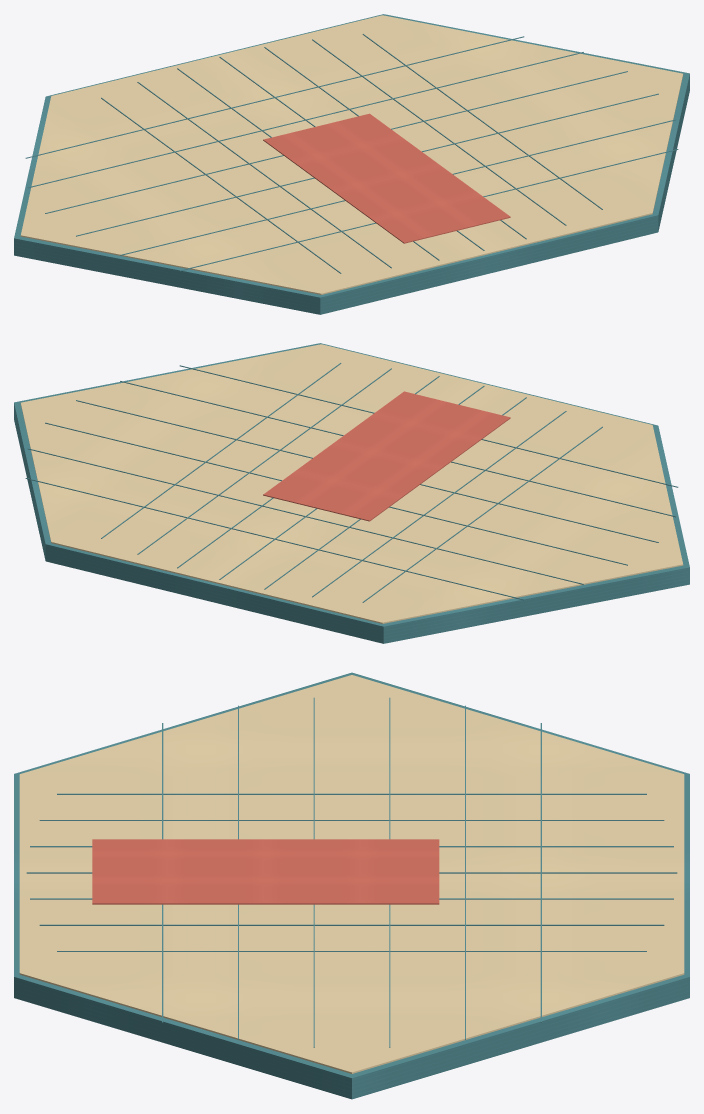
The model's file is atlas100-s074-a07.lod2.glb.
The picture shows the model from 3 angles, top to bottom: view 1: azimuth 30°, elevation 25°; view 2: azimuth 150°, elevation 25°; view 3: azimuth 270°, elevation 25°; orthographic projection. The views are drawn at different scales.
Parts seen in each view (by area): view 1: atlas100-s074-a07:part-001, atlas100-s074-a07:part-000, atlas100-s074-a07:part-021, atlas100-s074-a07:part-015, atlas100-s074-a07:part-014, atlas100-s074-a07:part-016, atlas100-s074-a07:part-017, atlas100-s074-a07:part-018, atlas100-s074-a07:part-019, atlas100-s074-a07:part-009, atlas100-s074-a07:part-005, atlas100-s074-a07:part-010 (+1 smaller); view 2: atlas100-s074-a07:part-001, atlas100-s074-a07:part-000, atlas100-s074-a07:part-021, atlas100-s074-a07:part-015, atlas100-s074-a07:part-014, atlas100-s074-a07:part-017, atlas100-s074-a07:part-016, atlas100-s074-a07:part-018, atlas100-s074-a07:part-019, atlas100-s074-a07:part-005, atlas100-s074-a07:part-009, atlas100-s074-a07:part-010 (+1 smaller); view 3: atlas100-s074-a07:part-001, atlas100-s074-a07:part-021, atlas100-s074-a07:part-000, atlas100-s074-a07:part-009, atlas100-s074-a07:part-004.
Boxes of the visible parts, x1,y1,x2,y2 form: atlas100-s074-a07:part-001: (20, 15, 683, 294); atlas100-s074-a07:part-000: (14, 14, 689, 314); atlas100-s074-a07:part-021: (263, 113, 510, 243); atlas100-s074-a07:part-015: (27, 52, 583, 188); atlas100-s074-a07:part-014: (25, 36, 524, 158); atlas100-s074-a07:part-016: (45, 71, 627, 213); atlas100-s074-a07:part-017: (76, 93, 658, 236); atlas100-s074-a07:part-018: (120, 119, 675, 255); atlas100-s074-a07:part-019: (179, 149, 678, 271); atlas100-s074-a07:part-009: (312, 39, 566, 225); atlas100-s074-a07:part-005: (137, 82, 391, 268); atlas100-s074-a07:part-010: (362, 34, 602, 209); atlas100-s074-a07:part-001: (20, 344, 683, 623); atlas100-s074-a07:part-000: (14, 343, 689, 643); atlas100-s074-a07:part-021: (263, 391, 510, 521); atlas100-s074-a07:part-015: (28, 448, 583, 584); atlas100-s074-a07:part-014: (25, 478, 524, 600); atlas100-s074-a07:part-017: (76, 400, 658, 542); atlas100-s074-a07:part-016: (45, 422, 627, 565); atlas100-s074-a07:part-018: (120, 381, 676, 517); atlas100-s074-a07:part-019: (179, 365, 678, 487); atlas100-s074-a07:part-005: (312, 411, 566, 597); atlas100-s074-a07:part-009: (137, 368, 391, 554); atlas100-s074-a07:part-010: (101, 363, 341, 538); atlas100-s074-a07:part-001: (19, 675, 684, 1073); atlas100-s074-a07:part-021: (92, 839, 439, 904); atlas100-s074-a07:part-000: (14, 672, 689, 1099); atlas100-s074-a07:part-009: (39, 924, 664, 925); atlas100-s074-a07:part-004: (57, 793, 646, 794).
Bounding box in the file's own units: 13.95 × 0.404 × 9.82.
Materials: 3 (3 with a texture image).
